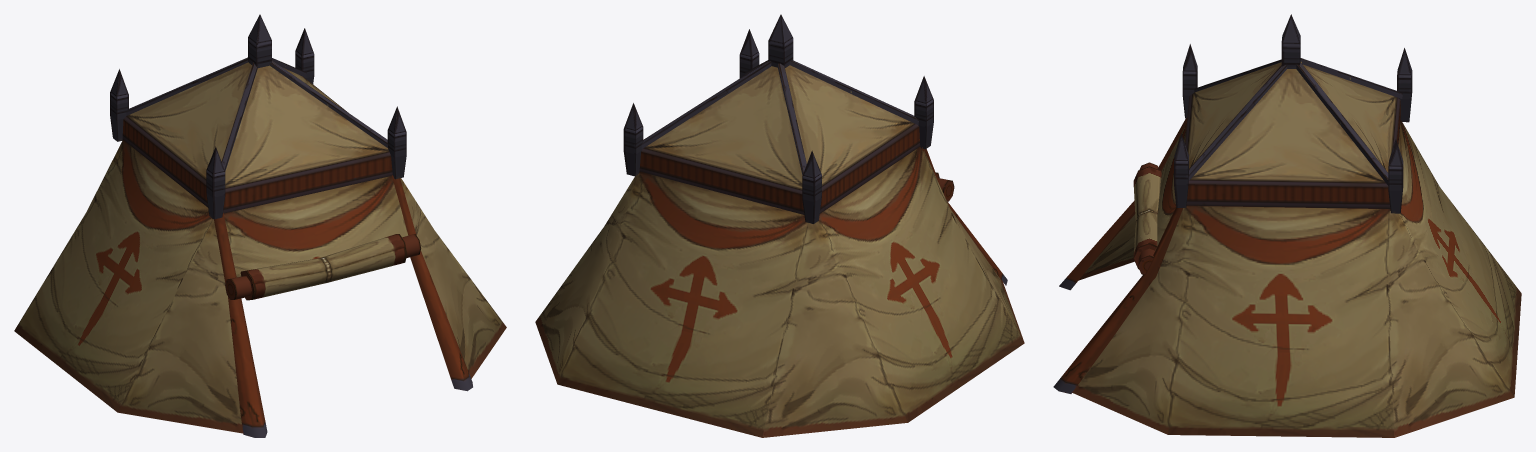
Rendered from 2_WGJ_ZhangPeng_01.FBX.
3 renders of one model, left to right at view 1: azimuth 30°, elevation 25°; view 2: azimuth 150°, elevation 25°; view 3: azimuth 270°, elevation 25°, orthographic. The views are drawn at different scales.
Parts seen in each view (by area): view 1: 2_WGJ_ZhangPeng_01; view 2: 2_WGJ_ZhangPeng_01; view 3: 2_WGJ_ZhangPeng_01.
Part boxes in pixels (x1,y1,x2,y2): 2_WGJ_ZhangPeng_01: (14, 14, 506, 437); 2_WGJ_ZhangPeng_01: (535, 14, 1024, 437); 2_WGJ_ZhangPeng_01: (1053, 14, 1521, 437).
Bounding box in the file's own units: 825 × 646 × 840.
1 material, 1 textured.
